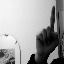d: (35, 5, 60, 58)
